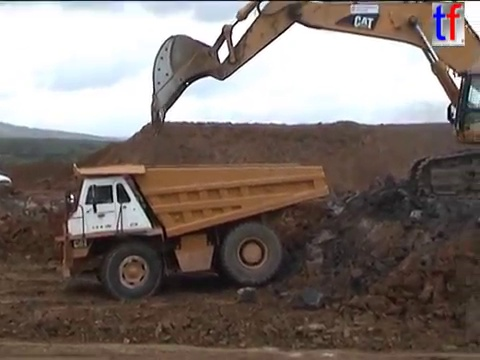excavator: (146, 1, 480, 202)
truck: (47, 160, 330, 302)
